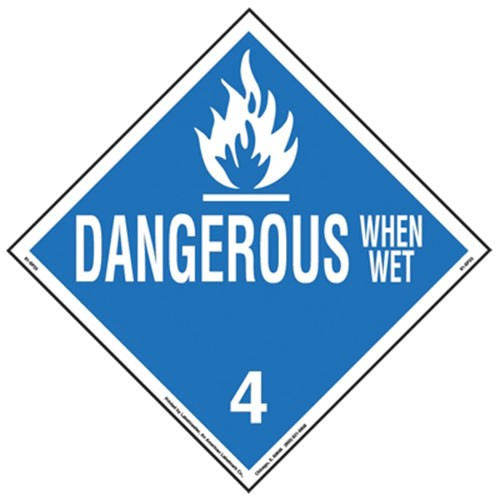DangerousWhenWet: (40, 33, 462, 444)
